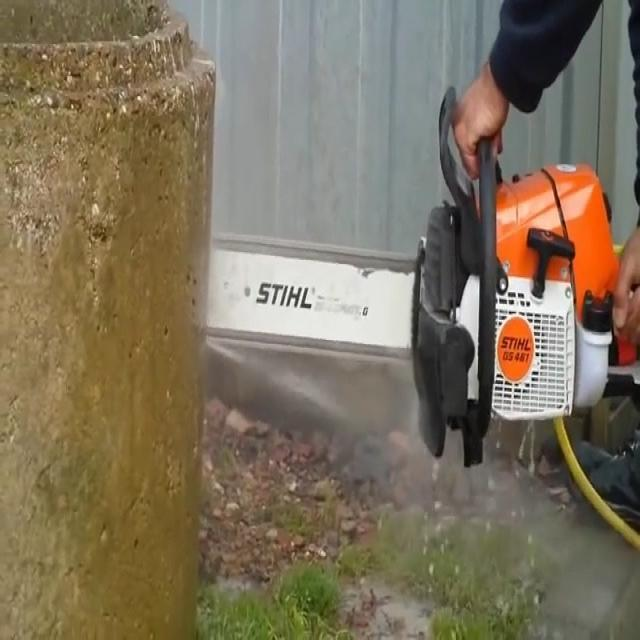Chainsaw: (188, 62, 640, 482)
